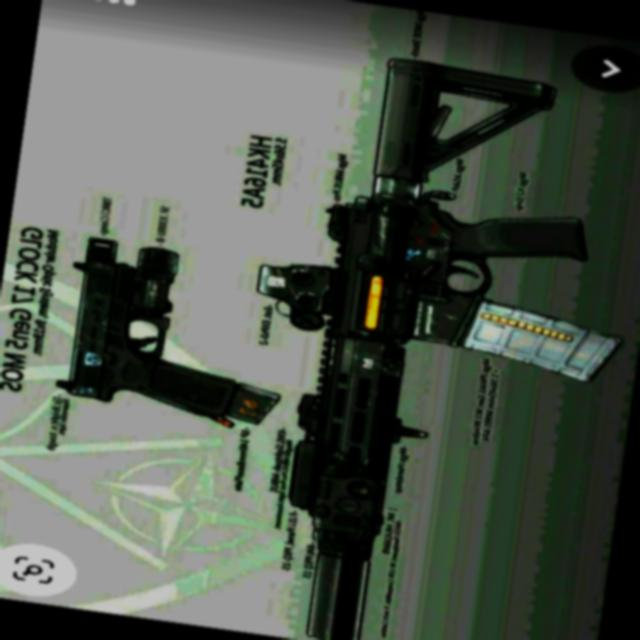m16: (150, 0, 617, 640)
